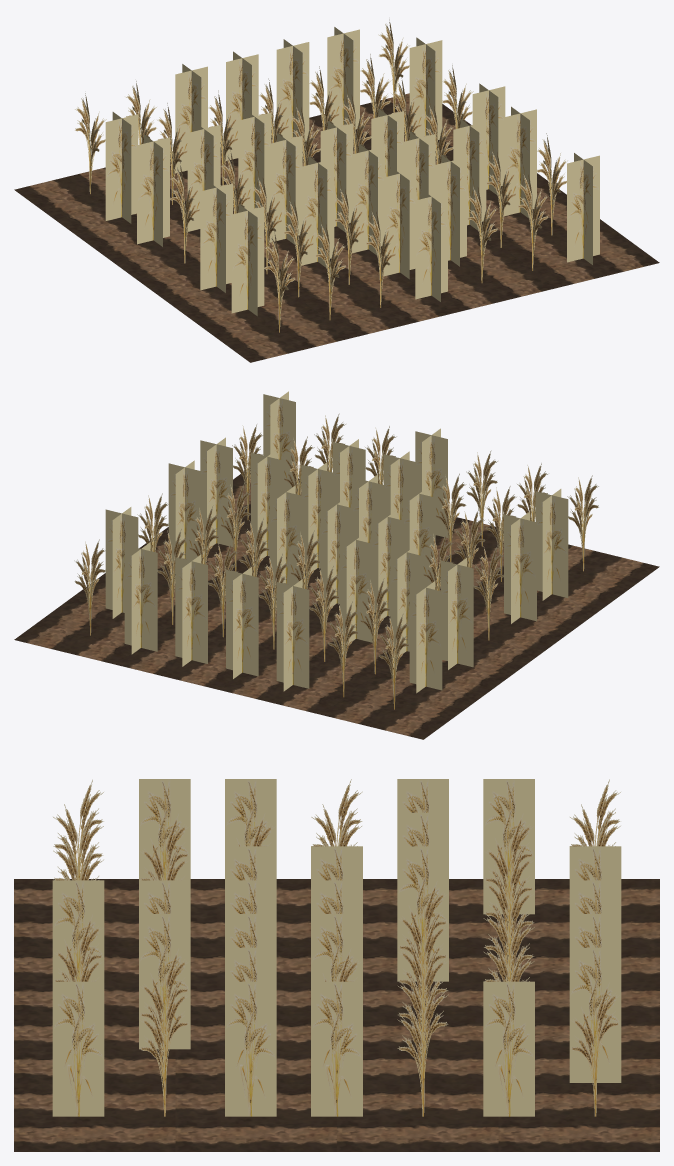
Rendered from crops.fbx.
3 views of the same model, one above another, from view 1: azimuth 30°, elevation 25°; view 2: azimuth 150°, elevation 25°; view 3: azimuth 270°, elevation 25° (orthographic). The views are drawn at different scales.
Parts seen in each view (by area): view 1: Plane, Plane_1_11, Plane_1_5, Plane_1_45, Plane_1_9, Plane_1_24, Plane_1_15, Plane_1_21, Plane_1_26, Plane_1_55, Plane_1_36, Plane_1_72 (+60 smaller); view 2: Plane, Plane_1_72, Plane_1_66, Plane_1_55, Plane_1_68, Plane_1_21, Plane_1_70, Plane_1_45, Plane_1_49, Plane_1_11, Plane_1_32, Plane_1_43 (+62 smaller); view 3: Plane, Plane_2_9, Plane_2_62, Plane_2_43, Plane_2_32, Plane_2_72, Plane_2_17, Plane_2_49, Plane_2_55, Plane_2_5, Plane_2_11, Plane_2_21 (+47 smaller).
Part boxes in pixels (box(x1,y1,x2,y2)): Plane: box(14, 93, 659, 362); Plane_1_11: box(231, 207, 264, 313); Plane_1_5: box(415, 192, 447, 299); Plane_1_45: box(137, 137, 169, 244); Plane_1_9: box(567, 155, 599, 262); Plane_1_24: box(301, 159, 334, 265); Plane_1_15: box(383, 169, 416, 276); Plane_1_21: box(200, 183, 232, 290); Plane_1_26: box(352, 146, 384, 253); Plane_1_55: box(105, 114, 138, 220); Plane_1_36: box(270, 136, 302, 242); Plane_1_72: box(327, 29, 359, 129); Plane: box(14, 468, 659, 739); Plane_1_72: box(124, 545, 157, 651); Plane_1_66: box(276, 582, 309, 688); Plane_1_55: box(409, 584, 442, 690); Plane_1_68: box(226, 569, 258, 676); Plane_1_21: box(504, 514, 536, 621); Plane_1_70: box(175, 557, 207, 663); Plane_1_45: box(441, 560, 473, 667); Plane_1_49: box(339, 536, 372, 642); Plane_1_11: box(535, 491, 568, 597); Plane_1_32: box(200, 440, 232, 546); Plane_1_43: box(168, 463, 201, 563); Plane: box(14, 879, 659, 1151); Plane_2_9: box(52, 981, 104, 1116); Plane_2_62: box(483, 981, 534, 1116); Plane_2_43: box(311, 981, 362, 1116); Plane_2_32: box(225, 981, 276, 1116); Plane_2_72: box(569, 947, 621, 1082); Plane_2_17: box(139, 914, 190, 1049); Plane_2_49: box(397, 846, 448, 981); Plane_2_55: box(483, 779, 534, 914); Plane_2_5: box(52, 880, 104, 981); Plane_2_11: box(139, 779, 190, 880); Plane_2_21: box(225, 779, 276, 846).
Size of the model in its own units: 500 by 120 by 500.
197 materials, 197 textured.
